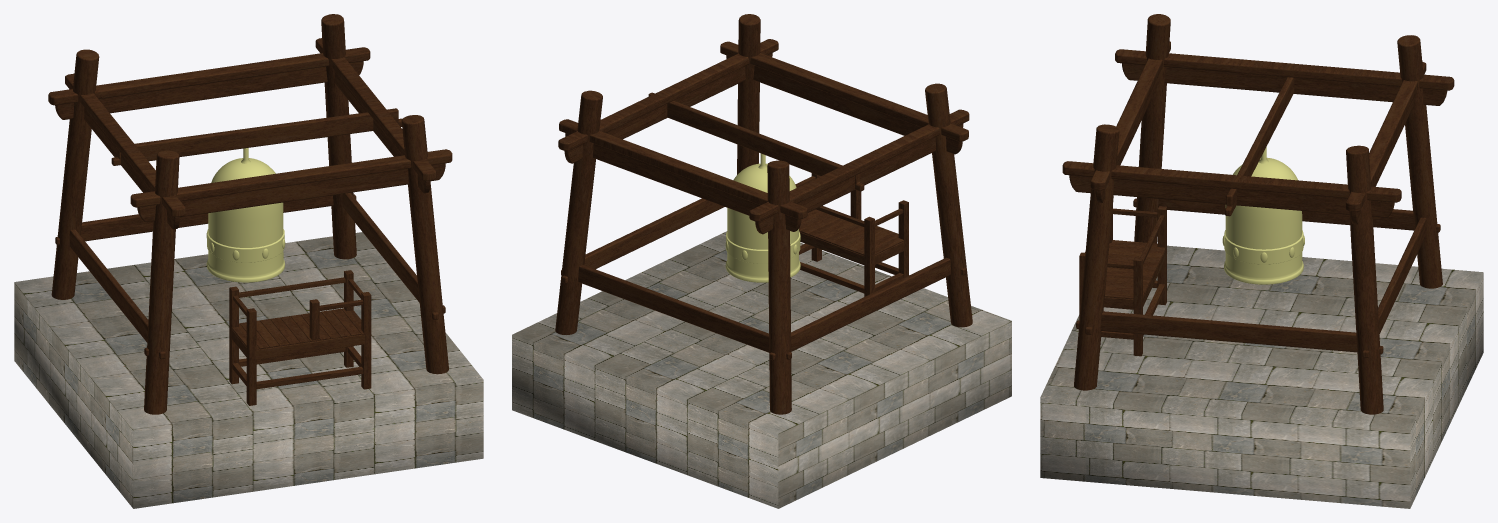
File: Bell.fbx
3 views of the same model, side by side, from view 1: azimuth 30°, elevation 25°; view 2: azimuth 150°, elevation 25°; view 3: azimuth 270°, elevation 25° (orthographic). The views are drawn at different scales.
Parts seen in each view (by area): view 1: Bell.Shape; view 2: Bell.Shape; view 3: Bell.Shape.
Boxes of the visible parts, x1,y1,x2,y2 form: Bell.Shape: (14, 14, 483, 508); Bell.Shape: (512, 14, 1011, 508); Bell.Shape: (1040, 14, 1483, 508).
Bounding box in the file's own units: 402 × 332 × 402.
